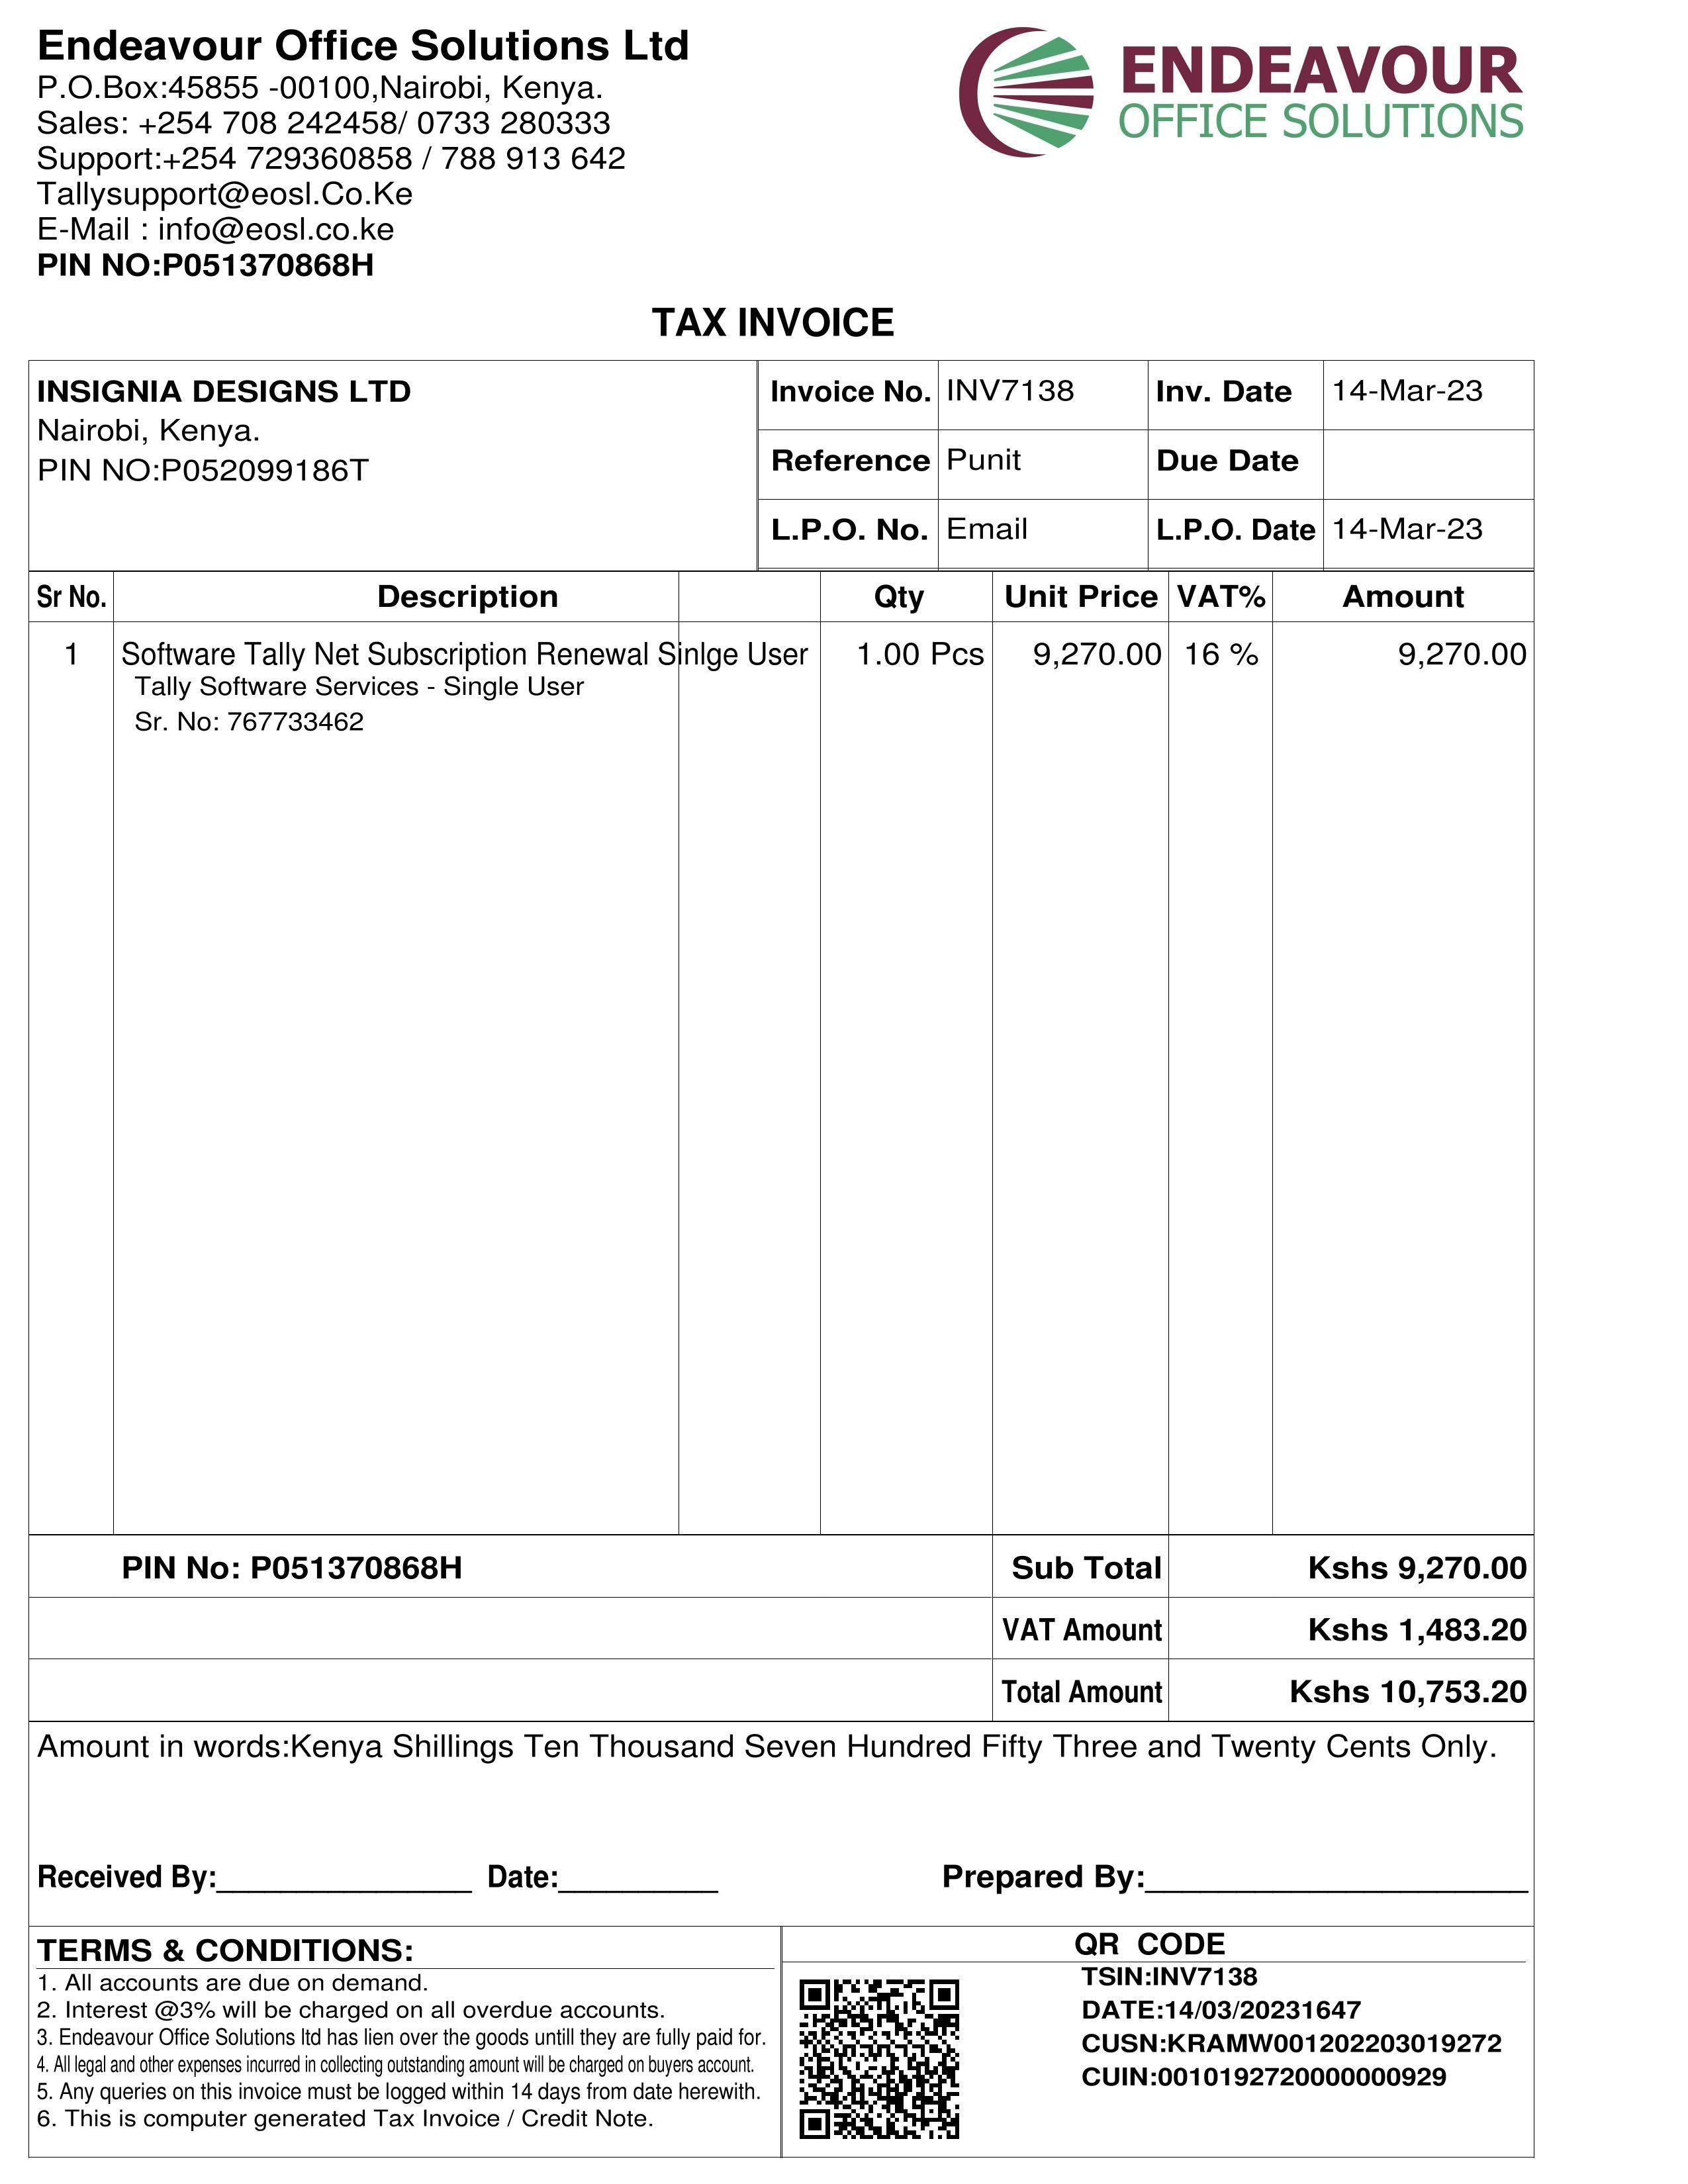InvoiceDate: (1332, 370, 1489, 415)
InvoiceNumber: (931, 362, 1090, 415)
TotalAmount: (1286, 1668, 1534, 1718)
